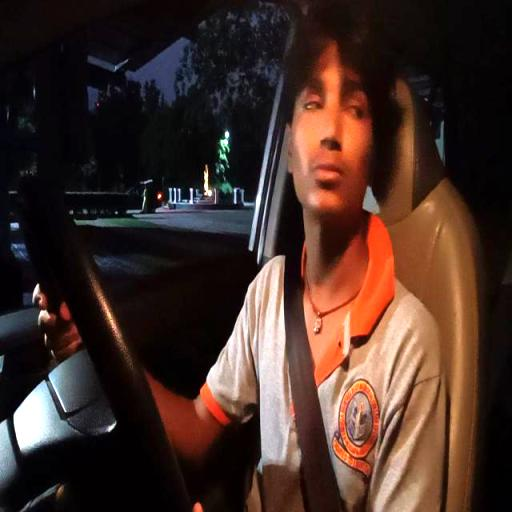Reaching_behind: (181, 32, 457, 512)
